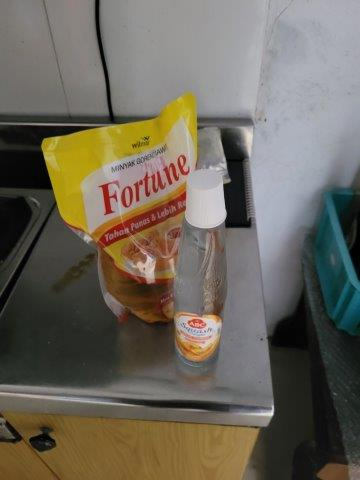botolkaca: (173, 171, 227, 372)
